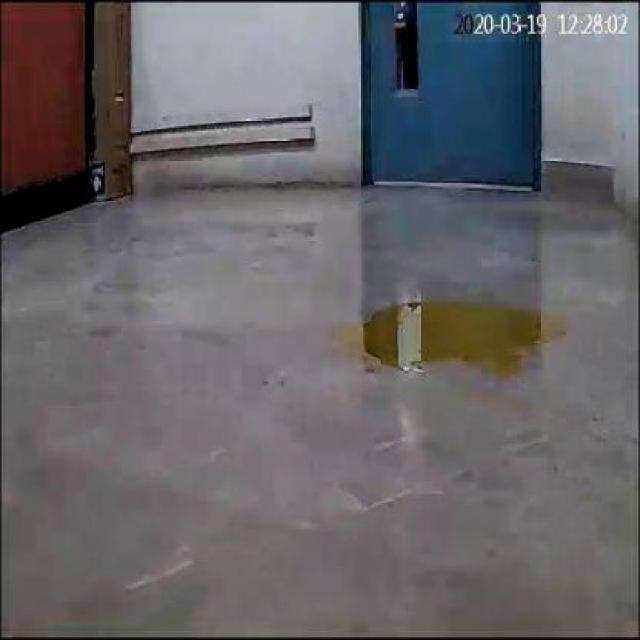spill: (334, 298, 562, 374)
